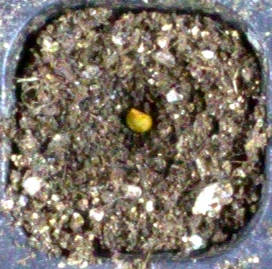chilli seed: (126, 107, 152, 132)
